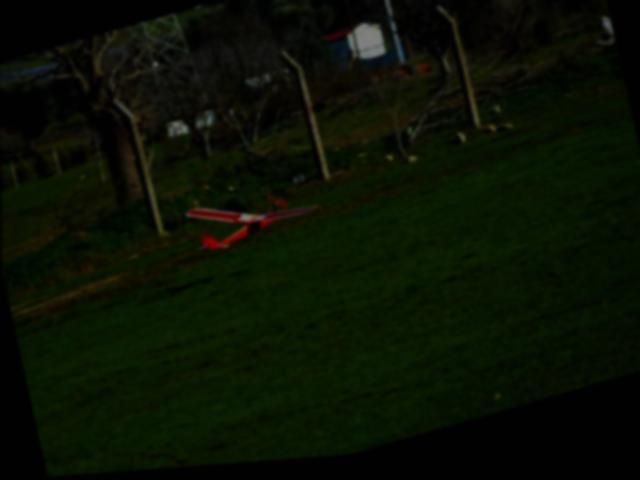iha: (174, 170, 327, 267)
